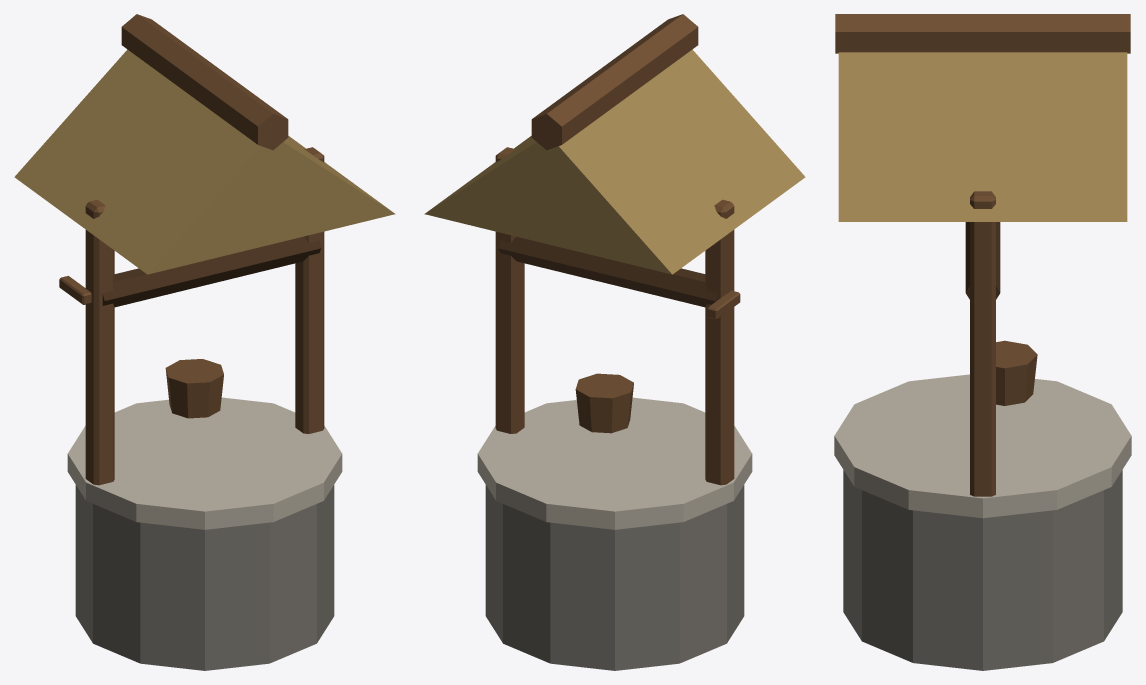
Rendered from well.fbx.
3 views of the same model, side by side, from view 1: azimuth 30°, elevation 25°; view 2: azimuth 150°, elevation 25°; view 3: azimuth 270°, elevation 25° (orthographic). The views are drawn at different scales.
Visible parts, largest first — view 1: Building; view 2: Building; view 3: Building.
Part boxes in pixels (x1,y1,x2,y2): Building: [14, 14, 395, 670]; Building: [424, 14, 805, 670]; Building: [834, 14, 1131, 670].
Size of the model in its own units: 0.71 by 0.68 by 1.51.
